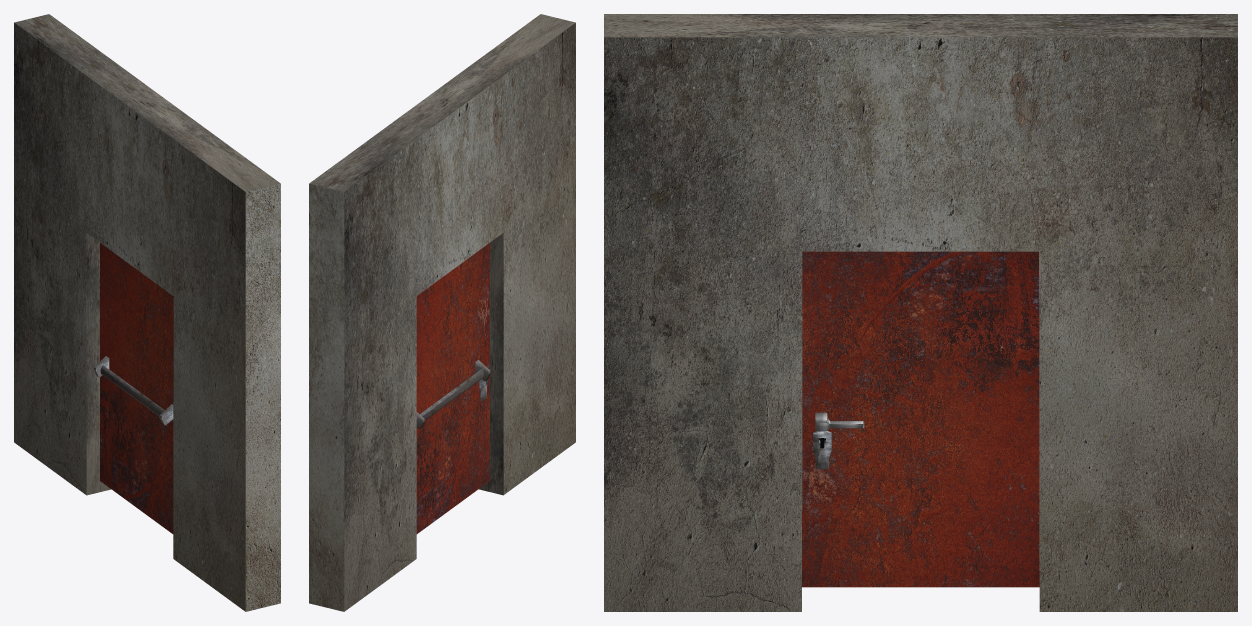
File: exitDoor.fbx
3 views of the same model, side by side, from view 1: azimuth 30°, elevation 25°; view 2: azimuth 150°, elevation 25°; view 3: azimuth 270°, elevation 25° (orthographic). The views are drawn at different scales.
Visible parts, largest first — view 1: Wall, Door, Handle; view 2: Wall, Door, Handle; view 3: Wall, Door.
Boxes of the visible parts, bbox=[...] form: Wall: bbox=[14, 14, 280, 611]; Door: bbox=[100, 243, 173, 533]; Handle: bbox=[100, 365, 164, 415]; Wall: bbox=[309, 14, 575, 611]; Door: bbox=[416, 243, 489, 533]; Handle: bbox=[420, 369, 483, 419]; Wall: bbox=[604, 14, 1237, 611]; Door: bbox=[802, 251, 1039, 587].
Bounding box in the file's own units: 35.9 × 400 × 400.
